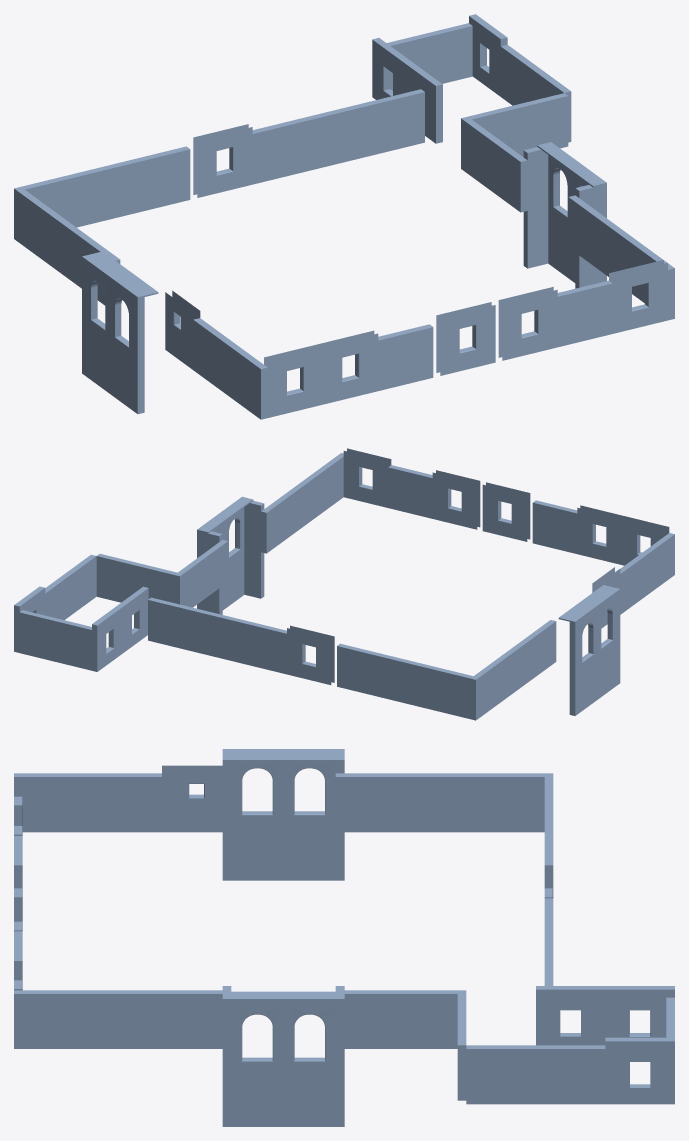
File: SM_Floor2_Outer_walls.fbx
The picture shows the model from 3 angles, top to bottom: view 1: azimuth 30°, elevation 25°; view 2: azimuth 150°, elevation 25°; view 3: azimuth 270°, elevation 25°; orthographic projection. The views are drawn at different scales.
Visible parts, largest first — view 1: Fireplace:Fireplace:Fireplace:Fireplace:wall_llong6, wall_llong9, polySurface691, wall_llong12, pCylinder5, Window9, walls30, walls19, walls20, walls71, Window, Window1 (+10 smaller); view 2: Fireplace:Fireplace:Fireplace:Fireplace:wall_llong6, wall_llong9, wall_llong12, polySurface691, pCylinder5, walls30, walls19, walls73, Window9, walls71, walls20, Window1 (+10 smaller); view 3: walls30, Window9, walls19, pCylinder8, pCylinder5, walls72, walls20, wall_llong24, wall_llong23, wall_llong22, walls61, walls56 (+8 smaller).
Part boxes in pixels (x1=…): Fireplace:Fireplace:Fireplace:Fireplace:wall_llong6: x1=498, y1=260, x2=667, y2=360; wall_llong9: x1=252, y1=89, x2=424, y2=184; polySurface691: x1=264, y1=324, x2=433, y2=417; wall_llong12: x1=21, y1=146, x2=190, y2=227; pCylinder5: x1=82, y1=258, x2=144, y2=414; Window9: x1=165, y1=290, x2=267, y2=419; walls30: x1=14, y1=187, x2=120, y2=305; walls19: x1=568, y1=195, x2=674, y2=320; walls20: x1=461, y1=116, x2=527, y2=212; walls71: x1=468, y1=93, x2=568, y2=156; Window: x1=193, y1=124, x2=252, y2=197; Window1: x1=436, y1=302, x2=495, y2=375; Fireplace:Fireplace:Fireplace:Fireplace:wall_llong6: x1=343, y1=448, x2=480, y2=529; wall_llong9: x1=148, y1=597, x2=286, y2=674; wall_llong12: x1=337, y1=643, x2=473, y2=718; polySurface691: x1=532, y1=500, x2=669, y2=565; pCylinder5: x1=569, y1=590, x2=620, y2=715; walls30: x1=470, y1=620, x2=556, y2=720; walls19: x1=261, y1=453, x2=343, y2=553; walls73: x1=14, y1=610, x2=91, y2=670; Window9: x1=592, y1=533, x2=674, y2=628; walls71: x1=96, y1=554, x2=176, y2=602; walls20: x1=174, y1=540, x2=227, y2=607; Window1: x1=482, y1=482, x2=530, y2=541; walls30: x1=335, y1=773, x2=553, y2=832; Window9: x1=14, y1=765, x2=222, y2=832; walls19: x1=14, y1=990, x2=222, y2=1048; pCylinder8: x1=222, y1=1000, x2=344, y2=1126; pCylinder5: x1=222, y1=762, x2=344, y2=880; walls72: x1=466, y1=1045, x2=605, y2=1104; walls20: x1=344, y1=990, x2=466, y2=1048; wall_llong24: x1=605, y1=1037, x2=674, y2=1104; wall_llong23: x1=536, y1=986, x2=605, y2=1045; wall_llong22: x1=605, y1=986, x2=674, y2=1037; walls61: x1=222, y1=749, x2=344, y2=761; walls56: x1=335, y1=986, x2=344, y2=1126.
Bounding box in the file's own units: 3950 × 811 × 3800.
